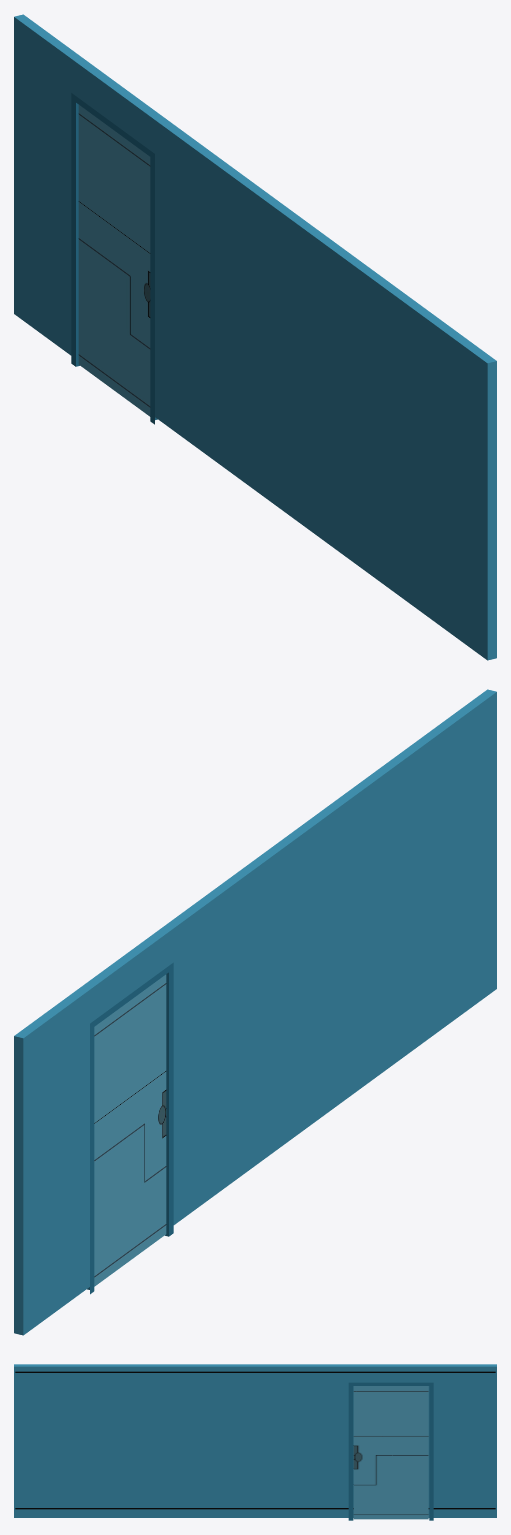
The model's file is ParedPuerta.obj.
3 renders of one model, top to bottom at view 1: azimuth 30°, elevation 25°; view 2: azimuth 150°, elevation 25°; view 3: azimuth 270°, elevation 25°, orthographic. The views are drawn at different scales.
Parts seen in each view (by area): view 1: polySurface1 ParedSimple:pCube2, InteriorDoor:InteriorDoor, InteriorDoor:InteriorDoorProfile; view 2: polySurface1 ParedSimple:pCube2, InteriorDoor:InteriorDoor, InteriorDoor:InteriorDoorProfile; view 3: polySurface1 ParedSimple:pCube2, InteriorDoor:InteriorDoor, InteriorDoor:InteriorDoorProfile, pasted__polySurface2 ParedSimple1:pCube2 group, ParedSimple:pCube2 polySurface2.
Part boxes in pixels (box(x1,y1,x2,y2)): polySurface1 ParedSimple:pCube2: box(14, 14, 496, 660); InteriorDoor:InteriorDoor: box(78, 105, 150, 416); InteriorDoor:InteriorDoorProfile: box(71, 93, 157, 424); polySurface1 ParedSimple:pCube2: box(14, 689, 496, 1335); InteriorDoor:InteriorDoor: box(94, 974, 166, 1286); InteriorDoor:InteriorDoorProfile: box(87, 962, 173, 1294); polySurface1 ParedSimple:pCube2: box(14, 1364, 496, 1517); InteriorDoor:InteriorDoor: box(353, 1386, 428, 1519); InteriorDoor:InteriorDoorProfile: box(348, 1382, 433, 1520); pasted__polySurface2 ParedSimple1:pCube2 group: box(15, 1371, 495, 1372); ParedSimple:pCube2 polySurface2: box(15, 1508, 495, 1509).
Bounding box in the file's own units: 18.85 × 303 × 866.
